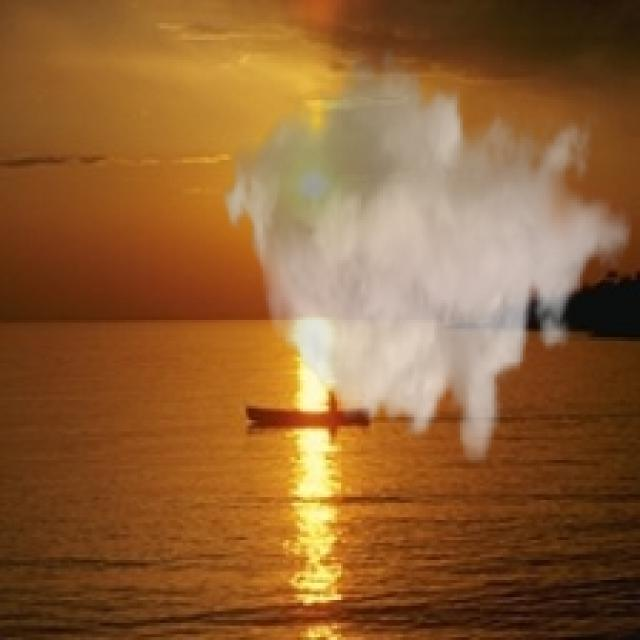Smoke: (220, 42, 634, 468)
